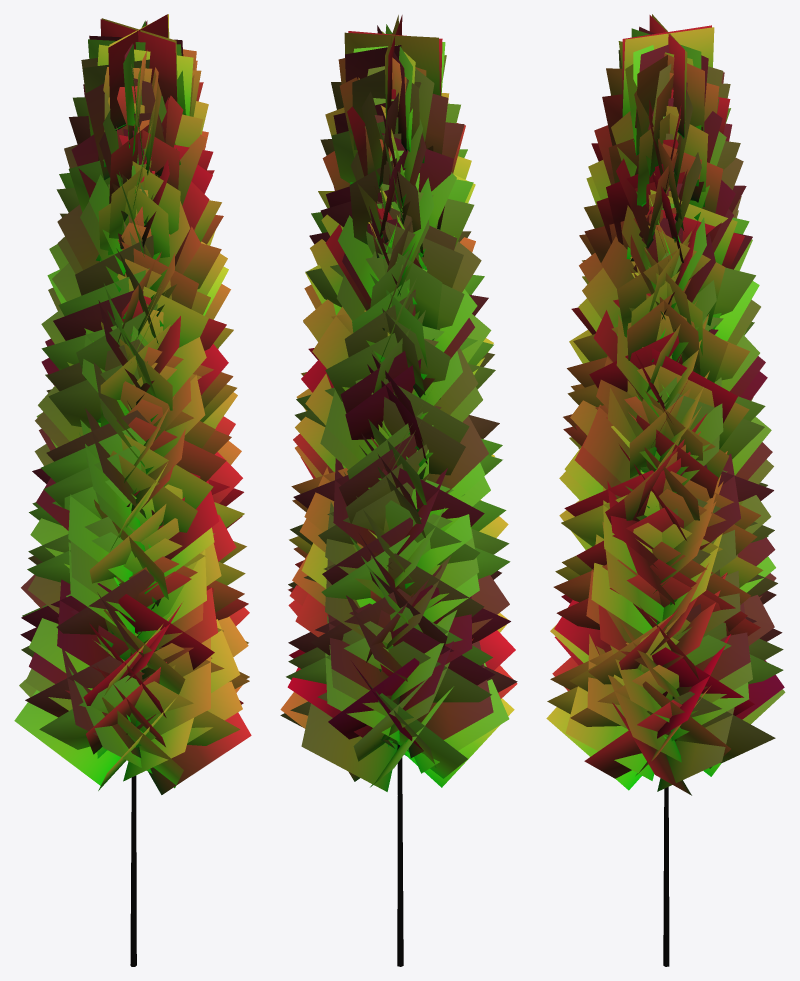
Rendered from URP_P4_Tree_4_LOD_3.fbx.
The picture shows the model from 3 angles, left to right: view 1: azimuth 30°, elevation 25°; view 2: azimuth 150°, elevation 25°; view 3: azimuth 270°, elevation 25°; orthographic projection.
Parts seen in each view (by area): view 1: Tree_4_LOD_3; view 2: Tree_4_LOD_3; view 3: Tree_4_LOD_3.
Boxes of the visible parts, x1,y1,x2,y2 form: Tree_4_LOD_3: (14, 14, 251, 966); Tree_4_LOD_3: (280, 15, 517, 966); Tree_4_LOD_3: (546, 14, 785, 966).
Bounding box in the file's own units: 212 × 918 × 212.
